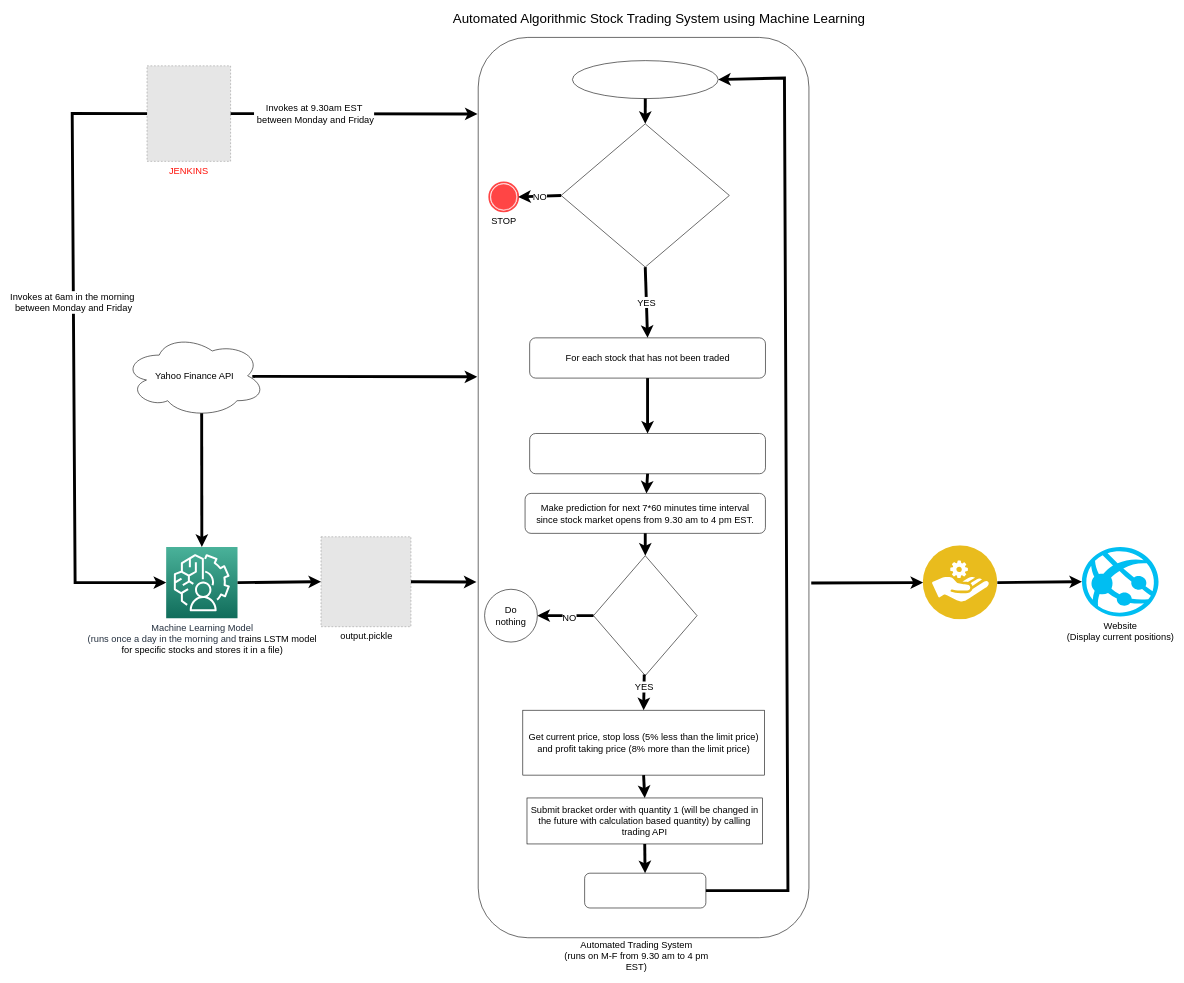
This 1184x983 diagram has some shape labels left out. Grey dashed boxes stand in for pictures. The shapes that lost their labels are listed below. From the top down, each one's centre as x and y in pixels, then its label:
At pixel 645 79: "Start".
At pixel 645 195: "Is any one of the stock in the list not traded AND Is stock market open?".
At pixel 647 453: "Read output.pickle file".
At pixel 960 582: "ALPACA Trading Broker".
At pixel 645 615: "Is one of the prediction greater than the current market price by 10%?".
At pixel 645 890: "Update file with traded stock info".
